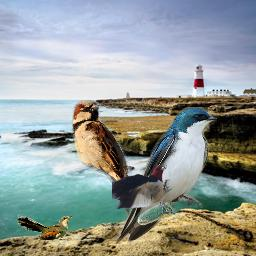Cuckoo: (17, 216, 72, 240)
Swallow: (115, 107, 217, 245), (71, 100, 131, 216)
Woodpecker: (112, 163, 172, 209)
